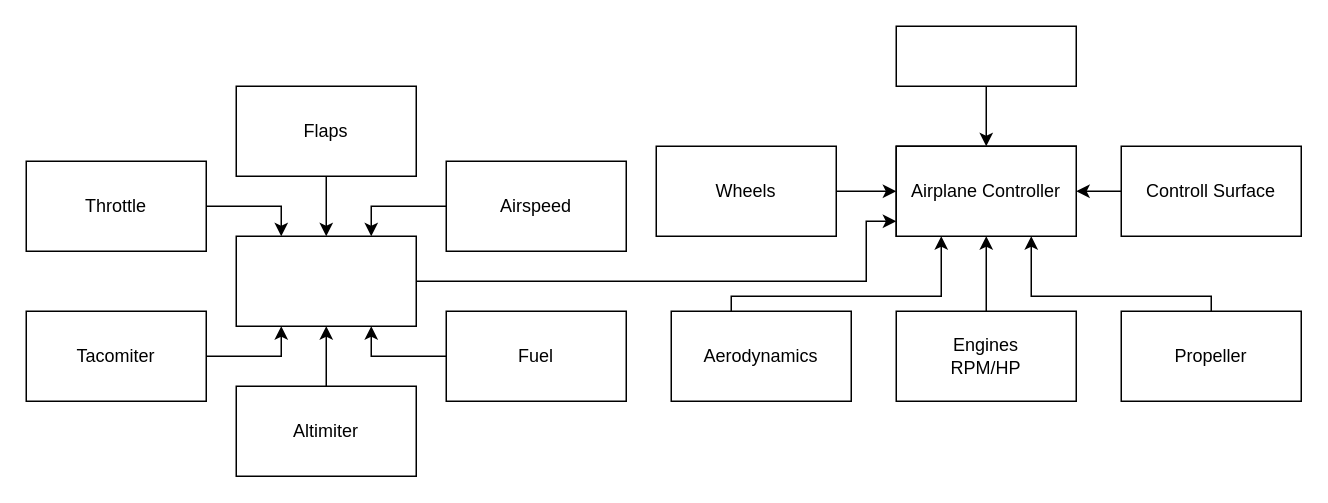
This 1328x503 diagram has some shape labels left out. The shapes that lost their labels are listed below. From the top down, each one's centre as x and y in pixels, then its label:
the point at 985,55: Airplane Input
the point at 325,280: UI
